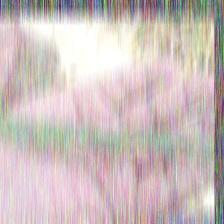Leaf_Blast: (39, 136, 203, 163), (0, 109, 141, 140)
